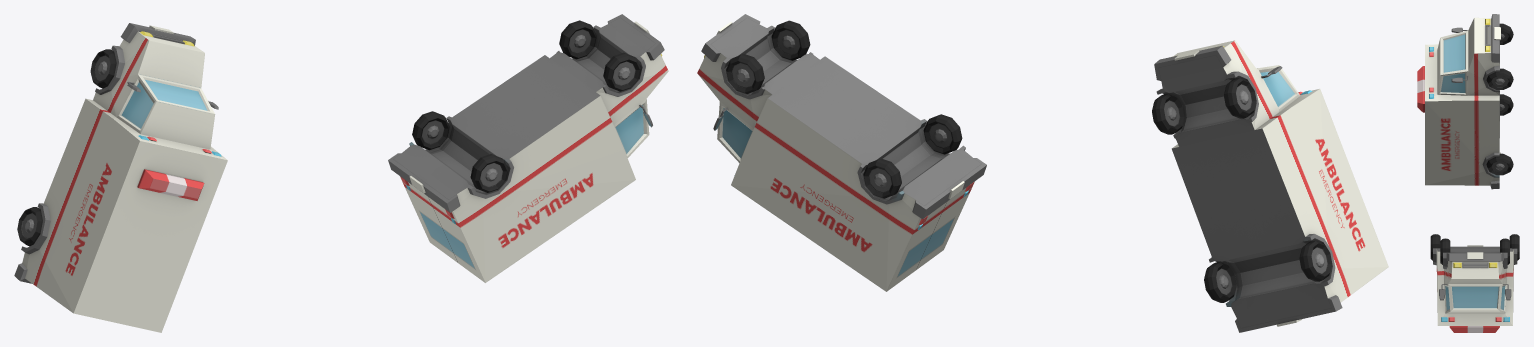
The model's file is ambulance.obj.
3 renders of one model, left to right at view 1: azimuth 30°, elevation 25°; view 2: azimuth 150°, elevation 25°; view 3: azimuth 270°, elevation 25°, orthographic. The views are drawn at different scales.
Visible parts, largest first — view 1: Ambulance; view 2: Ambulance; view 3: Ambulance.
Boxes of the visible parts, left/top/right/bottom form: Ambulance: left=14, top=14, right=668, bottom=332; Ambulance: left=697, top=14, right=1388, bottom=332; Ambulance: left=1417, top=14, right=1519, bottom=332.
Size of the model in its own units: 0.5289 by 0.2474 by 0.1119.
1 material, 1 textured.
